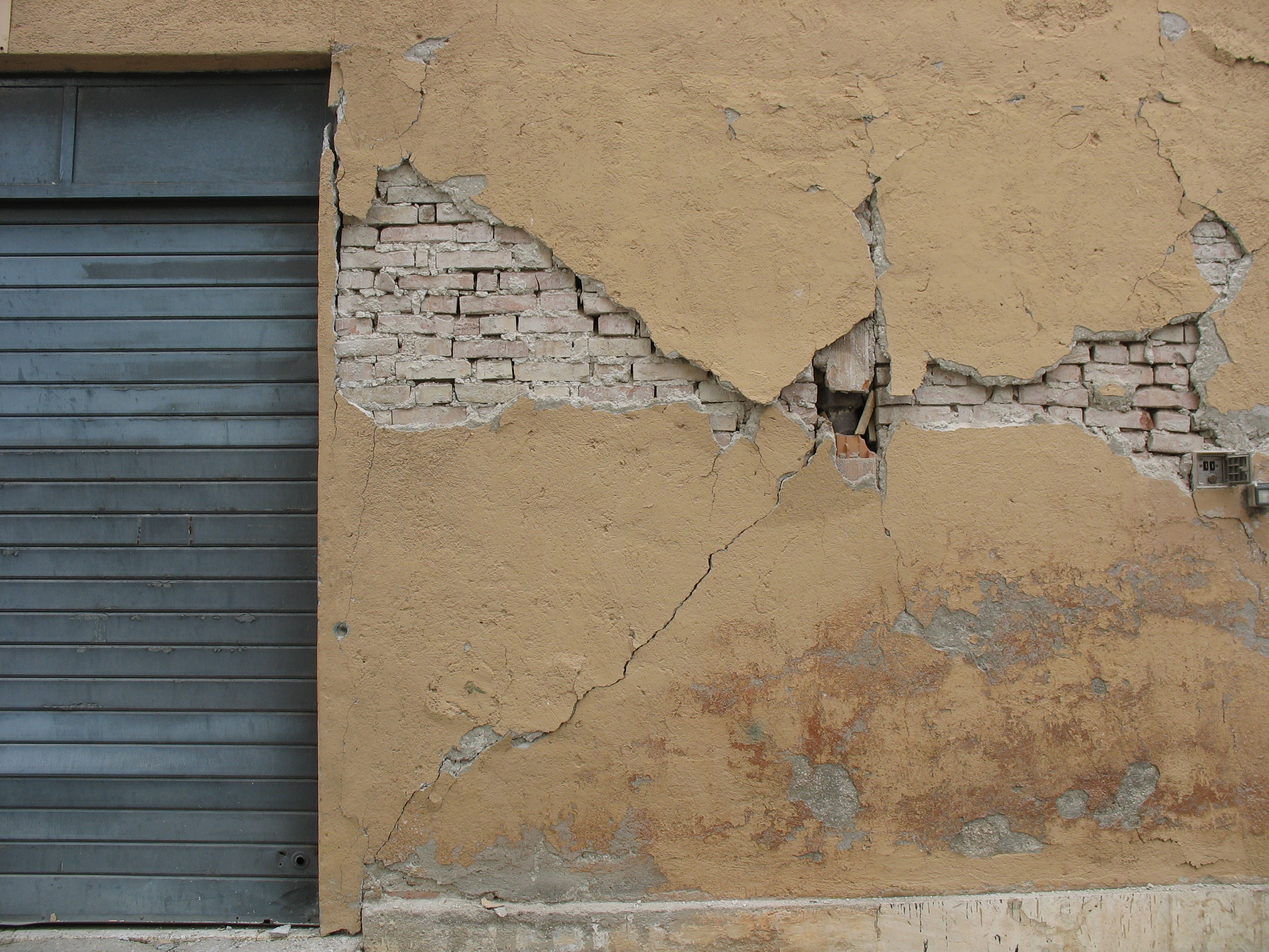Crack: (324, 12, 1266, 928)
Spalling: (335, 141, 773, 460), (887, 202, 1256, 494), (781, 309, 881, 486), (813, 355, 884, 467)
